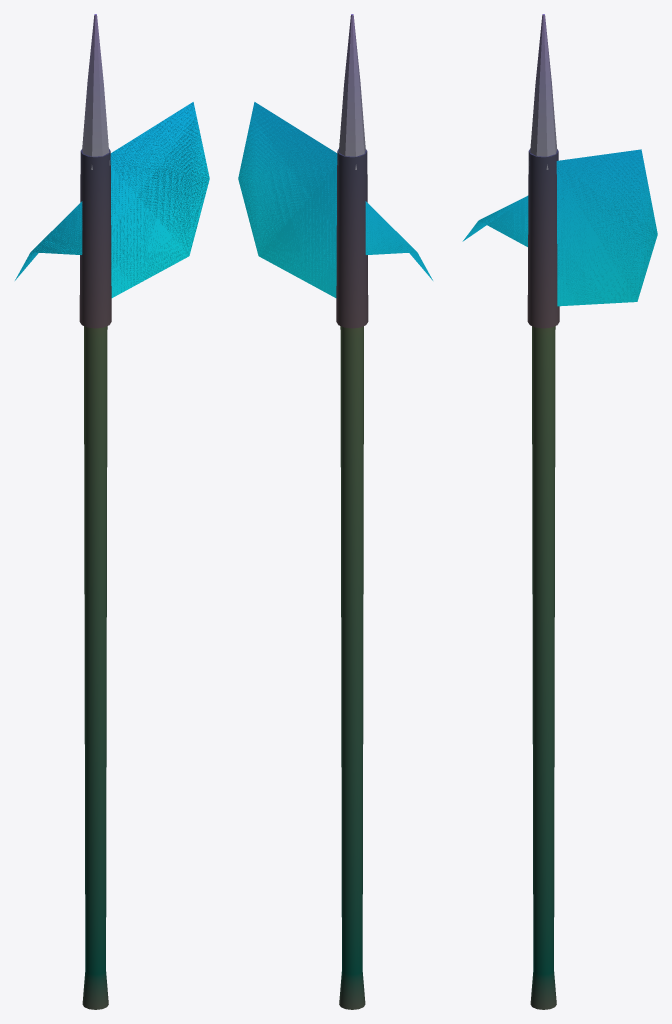
The model's file is halberd_ward.glb.
3 renders of one model, left to right at view 1: azimuth 30°, elevation 25°; view 2: azimuth 150°, elevation 25°; view 3: azimuth 330°, elevation 25°, orthographic.
Visible parts, largest first — view 1: haft, axehead, socket, spike; view 2: haft, axehead, socket, spike; view 3: haft, axehead, socket, spike.
Boxes of the visible parts, box(x1,y1,x2,y2) form: haft: box(82, 326, 108, 1009); axehead: box(15, 102, 209, 297); socket: box(79, 149, 111, 328); spike: box(82, 14, 110, 169); haft: box(339, 326, 365, 1009); axehead: box(238, 102, 432, 297); socket: box(336, 149, 368, 328); spike: box(337, 14, 365, 169); haft: box(530, 326, 556, 1009); axehead: box(462, 149, 657, 306); socket: box(527, 149, 559, 328); spike: box(529, 14, 557, 169).
Size of the model in its own units: 0.48 by 2.32 by 0.068.
